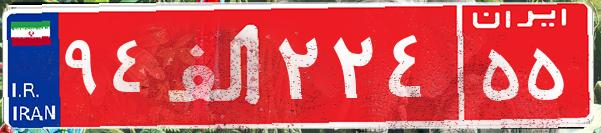2: (273, 28, 330, 110), (330, 28, 385, 110)
4: (385, 28, 445, 110), (110, 28, 158, 105)
5: (475, 38, 525, 113), (525, 38, 570, 115)
9: (57, 26, 110, 107)
الف: (158, 15, 273, 115)
